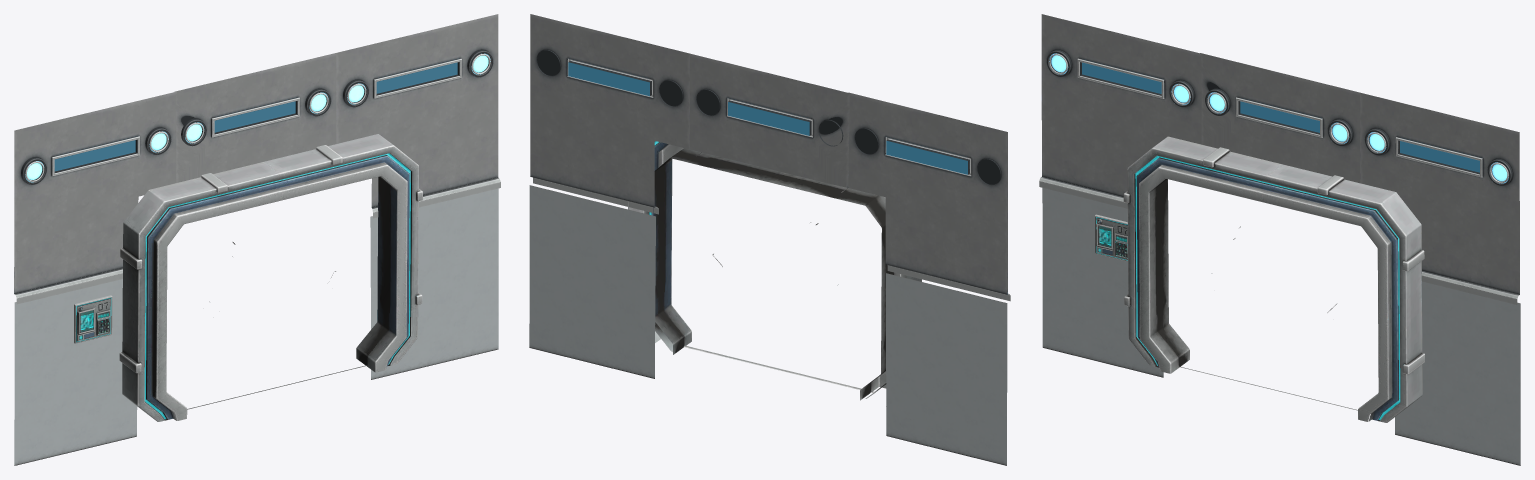
File: ParedPuerta.fbx
3 views of the same model, side by side, from view 1: azimuth 30°, elevation 25°; view 2: azimuth 150°, elevation 25°; view 3: azimuth 330°, elevation 25° (orthographic).
Parts seen in each view (by area): view 1: Object_30.006; view 2: Object_30.006; view 3: Object_30.006.
Boxes of the visible parts, x1,y1,x2,y2 form: Object_30.006: (14,14,500,465); Object_30.006: (529,14,1010,465); Object_30.006: (1039,14,1520,465).
Bounding box in the file's own units: 2441 × 1622 × 210.
Materials: 3 (3 with a texture image).
